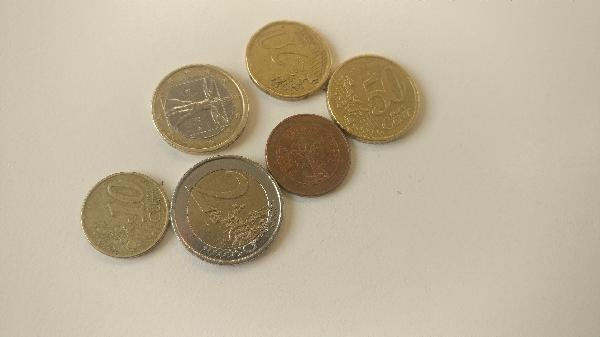Fifty Cent: (327, 52, 424, 143)
Five Cent: (266, 113, 352, 198)
One Euro: (150, 63, 250, 155)
Ten Cent: (79, 173, 170, 260)
Twenty Cent: (245, 19, 330, 99)
Two Euro: (169, 155, 284, 265)
